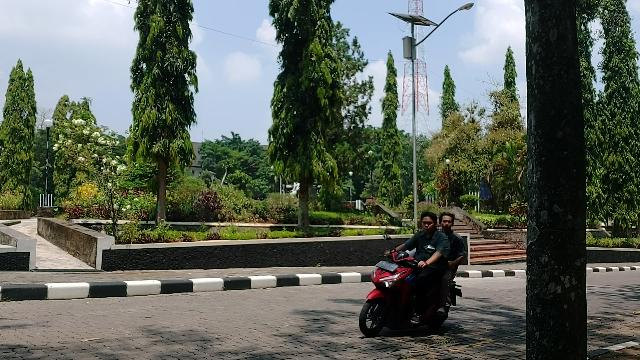motor: (360, 233, 464, 339)
non-helm: (421, 211, 440, 233), (440, 213, 457, 232)
